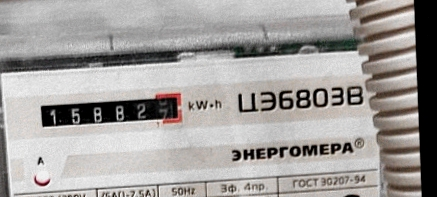1: (47, 106, 58, 125)
2: (135, 101, 147, 119)
5: (69, 106, 81, 124)
7: (157, 107, 169, 118)
8: (90, 105, 103, 122), (113, 103, 125, 121)
screen: (32, 88, 188, 135)
